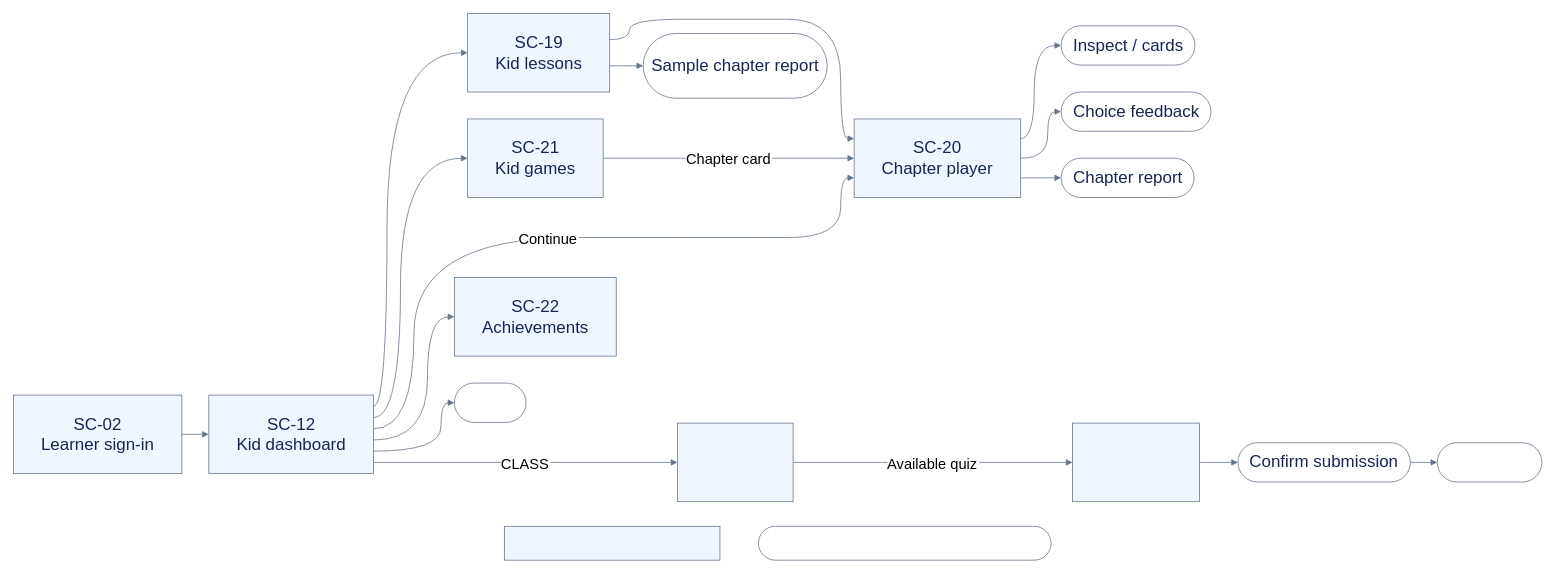
Some shapes in this 1555 by 574 pixel diagram are drawn without their labels. Each missing label, with the box of its shape:
Action / form / dialog: (758, 526, 1051, 560)
Profile: (454, 382, 526, 422)
Quiz result: (1437, 442, 1542, 482)
SC-23 Kid quiz: (677, 422, 793, 502)
SC-24 Quiz take: (1072, 422, 1200, 502)
Screen / tab (SC): (504, 526, 720, 560)
